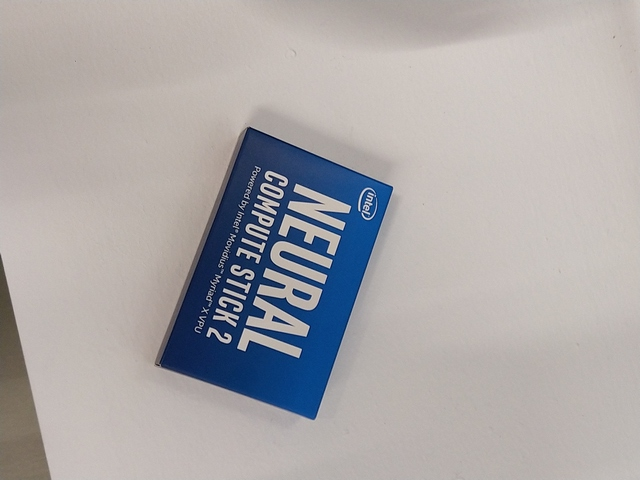box: (153, 126, 396, 422)
